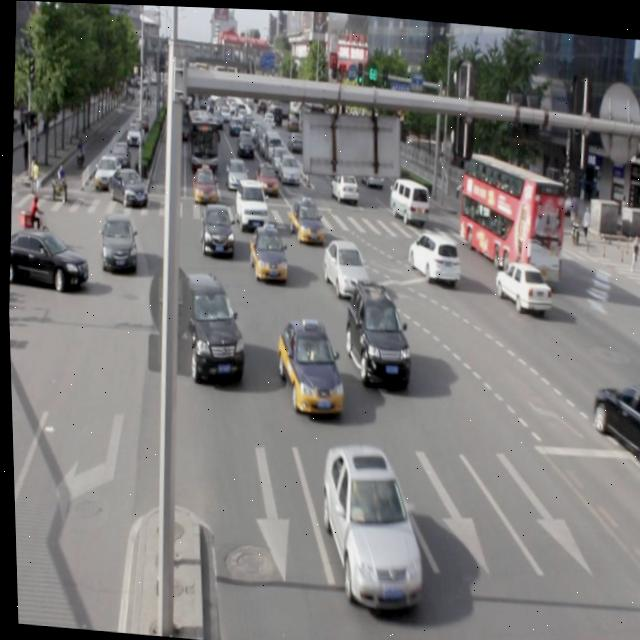car: (312, 435, 426, 606), (173, 268, 247, 383), (339, 276, 414, 383), (271, 313, 344, 412), (587, 372, 640, 462), (319, 232, 372, 297), (490, 254, 551, 309), (404, 226, 460, 281), (97, 209, 140, 273), (245, 219, 289, 280), (198, 199, 236, 257)
van: (454, 149, 564, 279)
